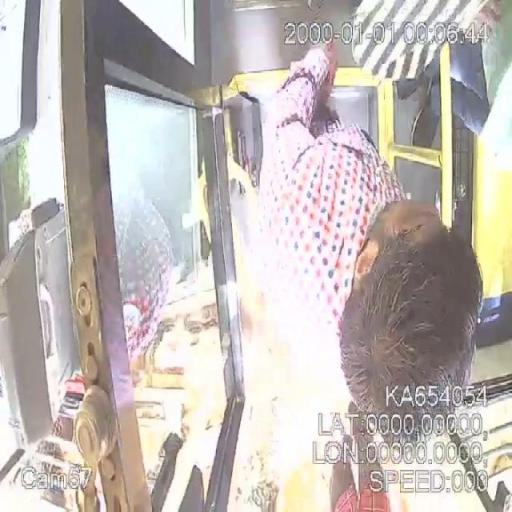persona: (255, 40, 485, 510)
